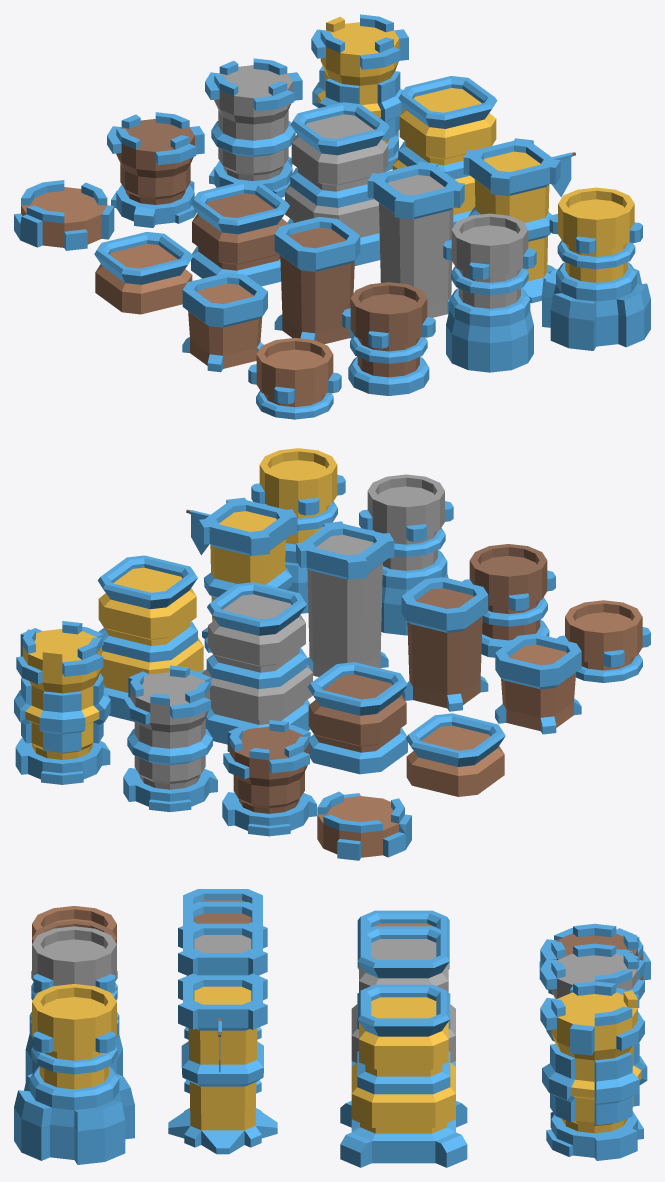
Rendered from war_towers_blue.fbx.
The picture shows the model from 3 angles, top to bottom: view 1: azimuth 30°, elevation 25°; view 2: azimuth 150°, elevation 25°; view 3: azimuth 270°, elevation 25°; orthographic projection. The views are drawn at different scales.
Visible parts, largest first — view 1: t_8, t_6, t_5, t_7, t_7_4_m; view 2: t_6, t_5, t_7, t_8, t_7_4_m; view 3: t_6, t_8, t_5, t_7_4_m, t_7.
Boxes of the visible parts, x1,y1,x2,y2 form: t_8: (248, 187, 650, 419); t_6: (94, 76, 497, 314); t_5: (14, 14, 408, 250); t_7: (182, 161, 464, 372); t_7_4_m: (463, 138, 560, 303); t_6: (98, 555, 505, 796); t_5: (14, 621, 411, 860); t_7: (296, 521, 581, 734); t_8: (251, 448, 650, 682); t_7_4_m: (199, 497, 297, 652); t_6: (340, 910, 467, 1167); t_8: (14, 906, 134, 1164); t_5: (539, 923, 650, 1160); t_7_4_m: (168, 973, 277, 1154); t_7: (178, 889, 267, 1093).
Size of the model in its own units: 1437 by 448 by 1832.
Materials: 1 (1 with a texture image).
